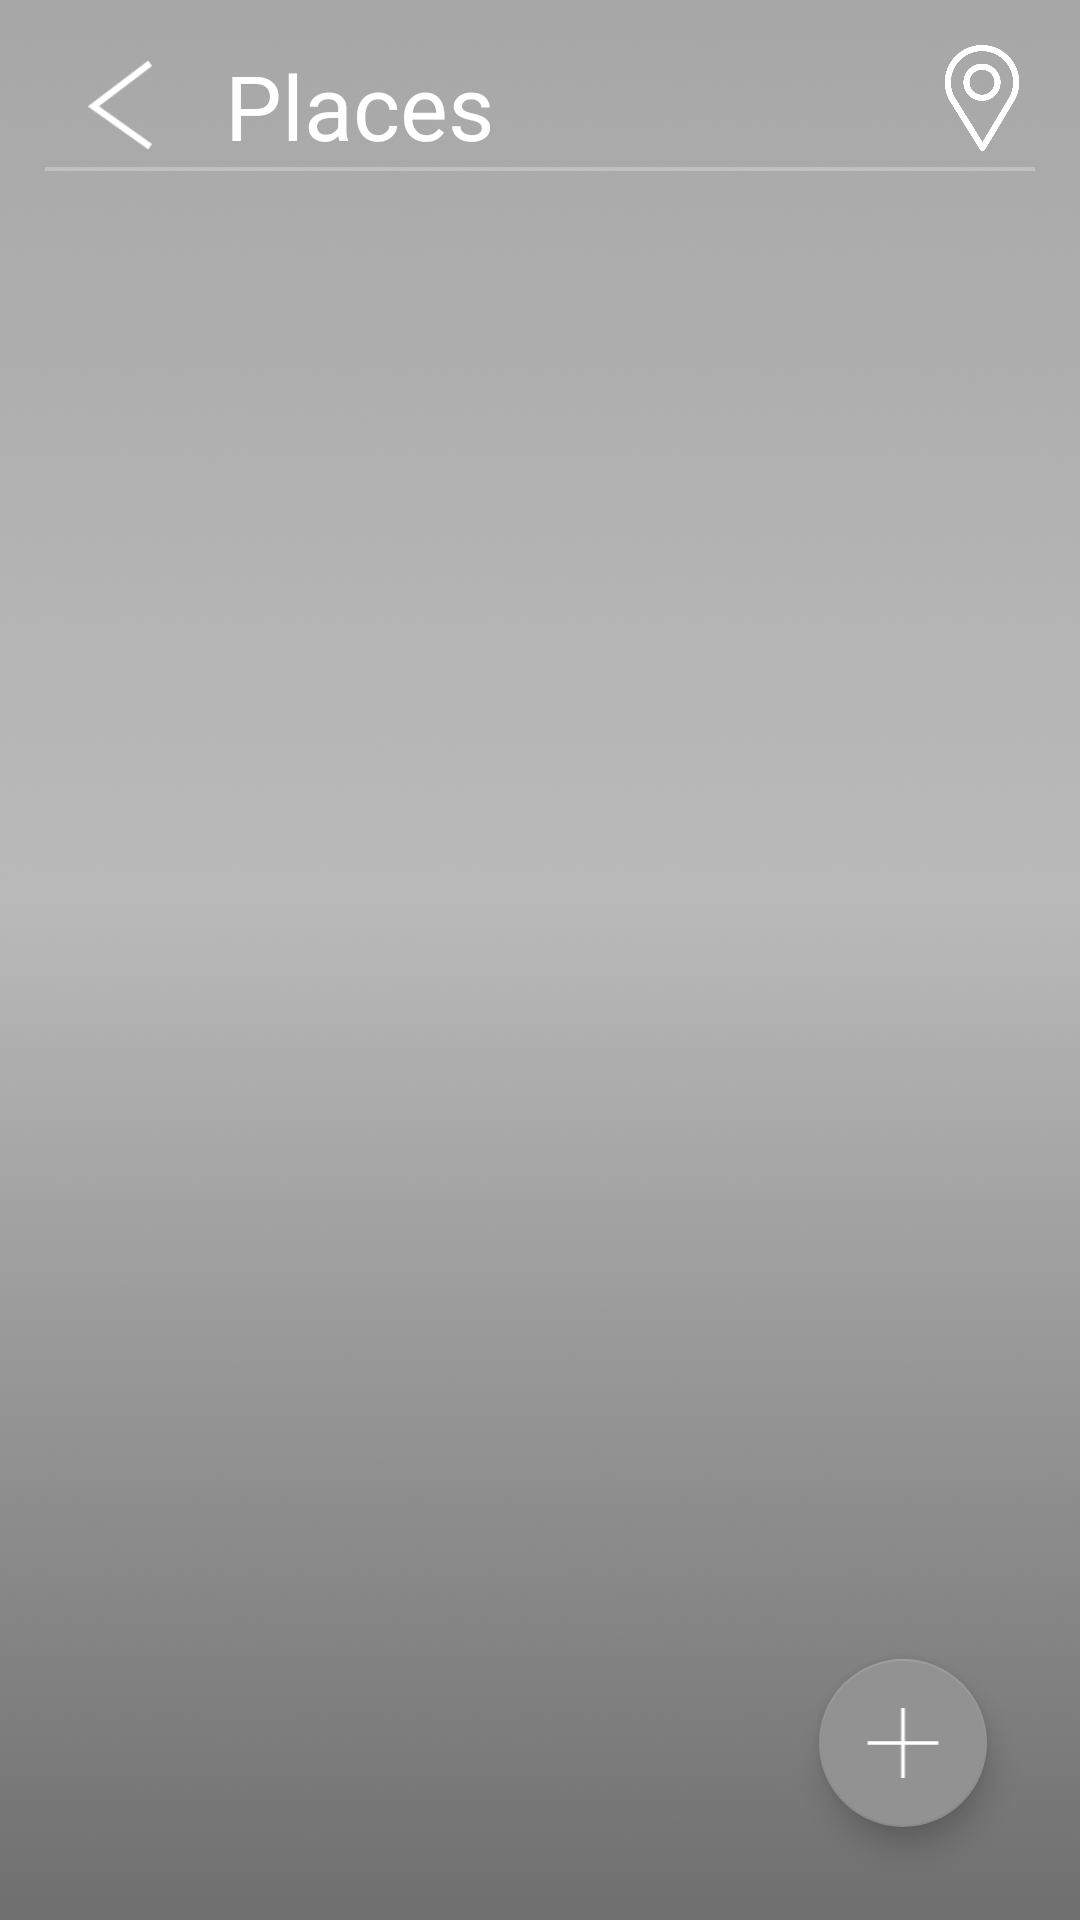

Where icons sit on this 1080*1920 app screen, as (left=x1, top=y1, right=x2, bottom=y2):
back: (left=88, top=61, right=152, bottom=149)
geo: (left=945, top=45, right=1019, bottom=151)
plus: (left=819, top=1659, right=987, bottom=1825)
